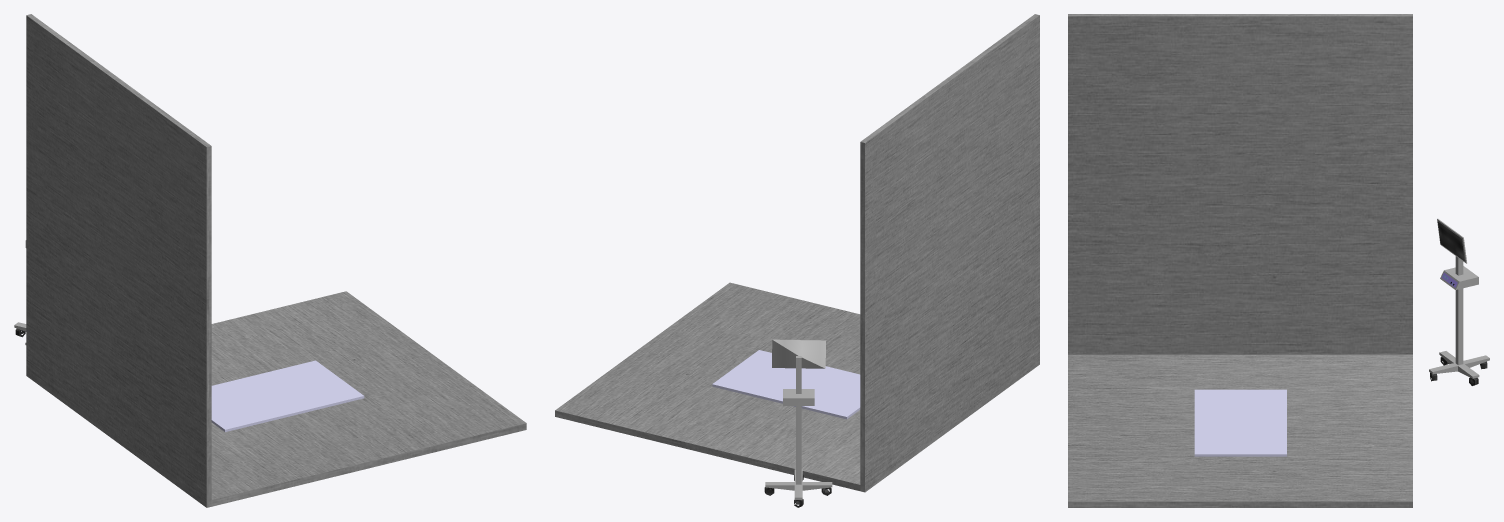
Rendered from jump_device.glb.
3 renders of one model, left to right at view 1: azimuth 30°, elevation 25°; view 2: azimuth 150°, elevation 25°; view 3: azimuth 270°, elevation 25°, orthographic. The views are drawn at different scales.
Visible parts, largest first — view 1: 物件_5, 物件_6, 物件_1; view 2: 物件_5, 物件_6, 物件_1, 1_485.072, 1_485.097, 1_485.012; view 3: 物件_5, 物件_6, 物件_1, 1_485.073, 1_485.066.
Boxes of the visible parts, bbox=[...] form: 物件_5: bbox=[26, 14, 211, 507]; 物件_6: bbox=[26, 291, 526, 507]; 物件_1: bbox=[211, 360, 364, 432]; 物件_5: bbox=[860, 14, 1039, 492]; 物件_6: bbox=[555, 282, 1039, 491]; 物件_1: bbox=[712, 350, 860, 419]; 1_485.072: bbox=[773, 339, 825, 368]; 1_485.097: bbox=[796, 358, 801, 484]; 1_485.012: bbox=[772, 340, 824, 368]; 物件_5: bbox=[1068, 14, 1412, 354]; 物件_6: bbox=[1068, 354, 1412, 507]; 物件_1: bbox=[1194, 389, 1286, 456]; 1_485.073: bbox=[1458, 258, 1463, 365]; 1_485.066: bbox=[1437, 221, 1464, 261].
Size of the model in its own units: 26.1 by 28.1 by 31.17.
8 materials, 5 textured.
